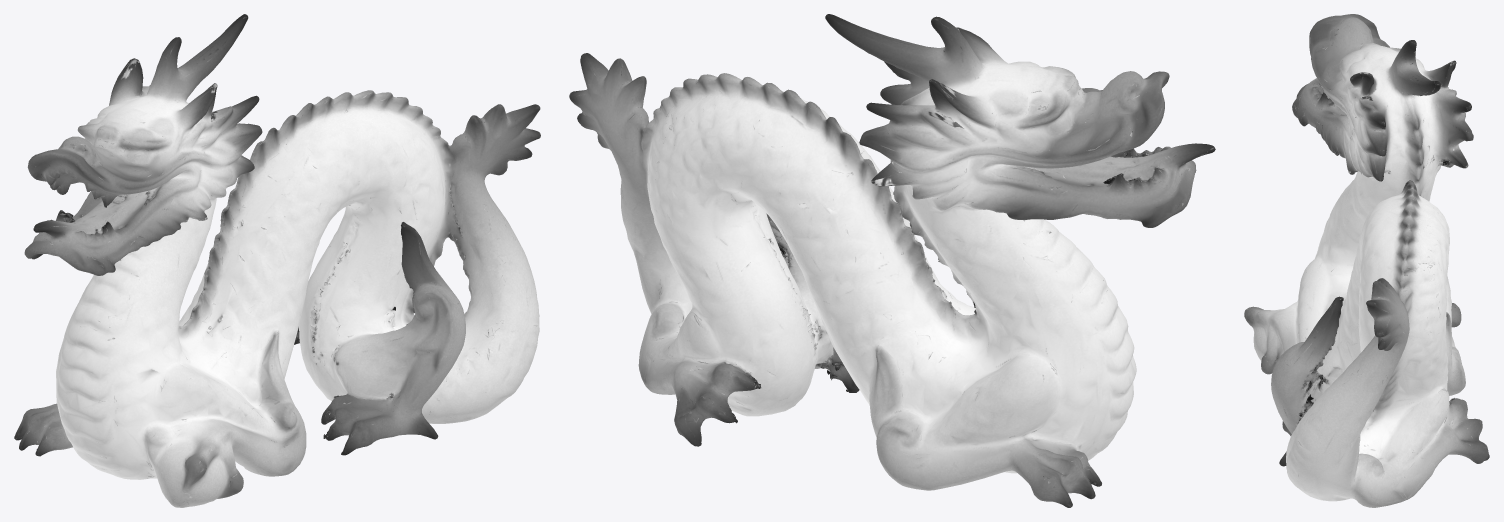
File: Dragon_Attenuation.gltf
The picture shows the model from 3 angles, left to right: view 1: azimuth 30°, elevation 25°; view 2: azimuth 150°, elevation 25°; view 3: azimuth 270°, elevation 25°; orthographic projection. The views are drawn at different scales.
Parts seen in each view (by area): view 1: Dragon; view 2: Dragon; view 3: Dragon.
Part boxes in pixels (left/top/right/bottom): Dragon: left=14, top=14, right=540, bottom=507; Dragon: left=569, top=14, right=1215, bottom=507; Dragon: left=1244, top=14, right=1489, bottom=507.
Bounding box in the file's own units: 3.52 × 2.48 × 1.58.
Materials: 1 (1 with a texture image).
